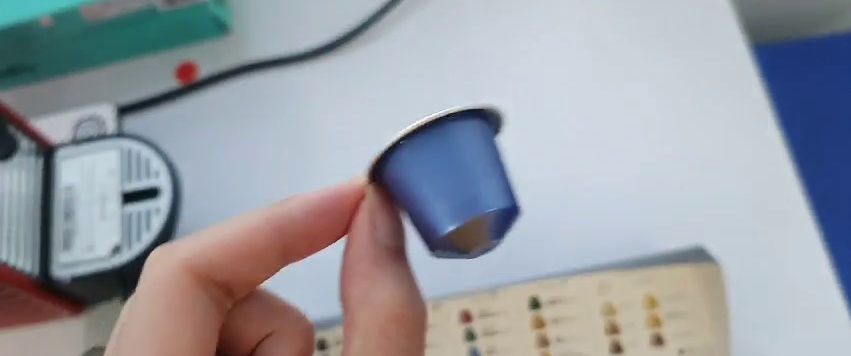capsule_7: (363, 100, 521, 257)
